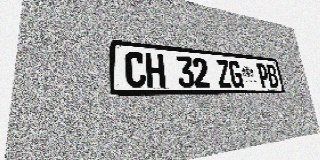2: (192, 57, 210, 88)
3: (176, 56, 195, 88)
B: (266, 64, 279, 88)
C: (125, 51, 146, 88)
G: (228, 60, 244, 88)
H: (145, 53, 166, 88)
P: (256, 63, 270, 88)
Z: (215, 59, 232, 88)
